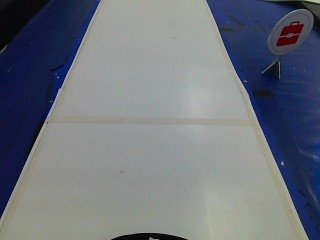company: (262, 8, 312, 56)
